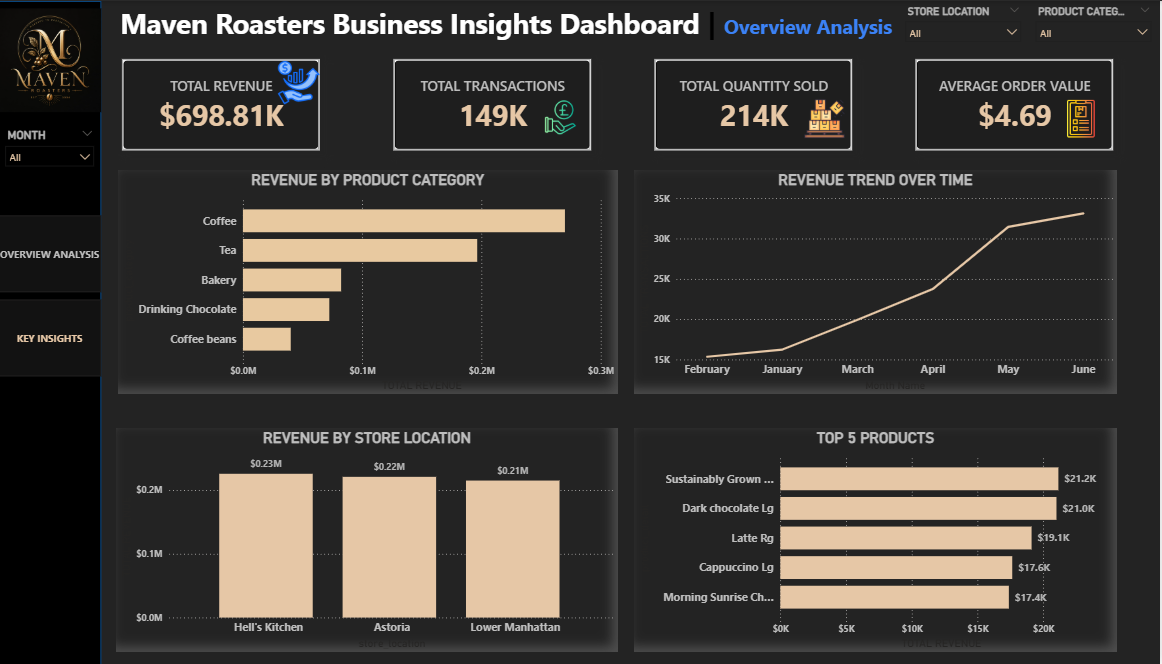

Layout of this report page (visuals, bound fields, positions):
{"tool":"powerbi","page":{"name":"OVERVIEW ANALYSIS","canvas":[1576,900],"ordinal":0},"visuals":[{"type":"shape","box":[0,0,140,900.7],"z":0},{"type":"textbox","box":[160.6,0,1116.2,65.1],"z":1000},{"type":"cardVisual","fields":{"Data":["Dim_Date.Total Revenue"]},"box":[162.7,73.2,278.5,134.2],"z":2000},{"type":"cardVisual","fields":{"Data":["Dim_Date.Total Transactions"]},"box":[530.7,73.2,278.5,134.2],"z":3000},{"type":"cardVisual","fields":{"Data":["Dim_Date.Total Quantity Sold"]},"box":[884.4,73.2,278.5,134.2],"z":4000},{"type":"cardVisual","fields":{"Data":["Dim_Date.Average Order Value"]},"box":[1238.2,73.2,278.5,134.2],"z":5000},{"type":"barChart","title":"REVENUE BY PRODUCT CATEGORY","fields":{"Category":["Sales_Fact.product_category"],"Y":["Dim_Date.TOTAL REVENUE"]},"box":[162.7,229.7,677,302.9],"z":6000},{"type":"lineChart","title":"REVENUE TREND OVER TIME","fields":{"Category":["Dim_Date.Month Name"],"Y":["Dim_Date.TOTAL TRANSACTIONS"]},"box":[862.1,229.7,654.7,302.9],"z":7000},{"type":"clusteredColumnChart","title":"REVENUE BY STORE LOCATION","fields":{"Y":["Dim_Date.TOTAL REVENUE"],"Category":["Sales_Fact.store_location"]},"box":[160.6,579.5,679.1,302.9],"z":8000},{"type":"clusteredBarChart","title":"TOP 5 PRODUCTS","fields":{"Y":["Dim_Date.TOTAL REVENUE"],"Category":["Sales_Fact.product_detail"]},"box":[862.1,579.5,654.7,302.9],"z":9000},{"type":"slicer","fields":{"Values":["Sales_Fact.store_location"]},"box":[1219.9,0,176.9,65.1],"z":10000},{"type":"slicer","fields":{"Values":["Sales_Fact.product_category"]},"box":[1396.8,0,176.9,65.1],"z":11000},{"type":"slicer","fields":{"Values":["Dim_Date.Month Name"]},"box":[0,166.7,140.3,81.3],"z":12000},{"type":"image","box":[0,0,140.3,160.6],"z":13000},{"type":"image","box":[374.1,81.3,67.1,59],"z":14000},{"type":"image","box":[736,128.1,52.9,59],"z":15000},{"type":"image","box":[1077.6,132.2,85.4,54.9],"z":16000},{"type":"image","box":[1419.2,132.2,97.6,54.9],"z":17000},{"type":"pageNavigator","box":[0,290.7,140.3,219.6],"z":17001}]}

Visuals, with their boxes on the page's 1576x900 design canvas (x1, y1, x2, y2). These are canvas units, not pixel positions in the 1162x664 screenshot, which may show the page scaled, cropped or inside an application window:
shape: [0,0,140,901]
textbox: [161,0,1277,65]
cardVisual - Dim_Date.Total Revenue: [163,73,441,207]
cardVisual - Dim_Date.Total Transactions: [531,73,809,207]
cardVisual - Dim_Date.Total Quantity Sold: [884,73,1163,207]
cardVisual - Dim_Date.Average Order Value: [1238,73,1517,207]
"REVENUE BY PRODUCT CATEGORY" barChart: [163,230,840,533]
"REVENUE TREND OVER TIME" lineChart: [862,230,1517,533]
"REVENUE BY STORE LOCATION" clusteredColumnChart: [161,580,840,882]
"TOP 5 PRODUCTS" clusteredBarChart: [862,580,1517,882]
slicer - Sales_Fact.store_location: [1220,0,1397,65]
slicer - Sales_Fact.product_category: [1397,0,1574,65]
slicer - Dim_Date.Month Name: [0,167,140,248]
image: [0,0,140,161]
image: [374,81,441,140]
image: [736,128,789,187]
image: [1078,132,1163,187]
image: [1419,132,1517,187]
pageNavigator: [0,291,140,510]
